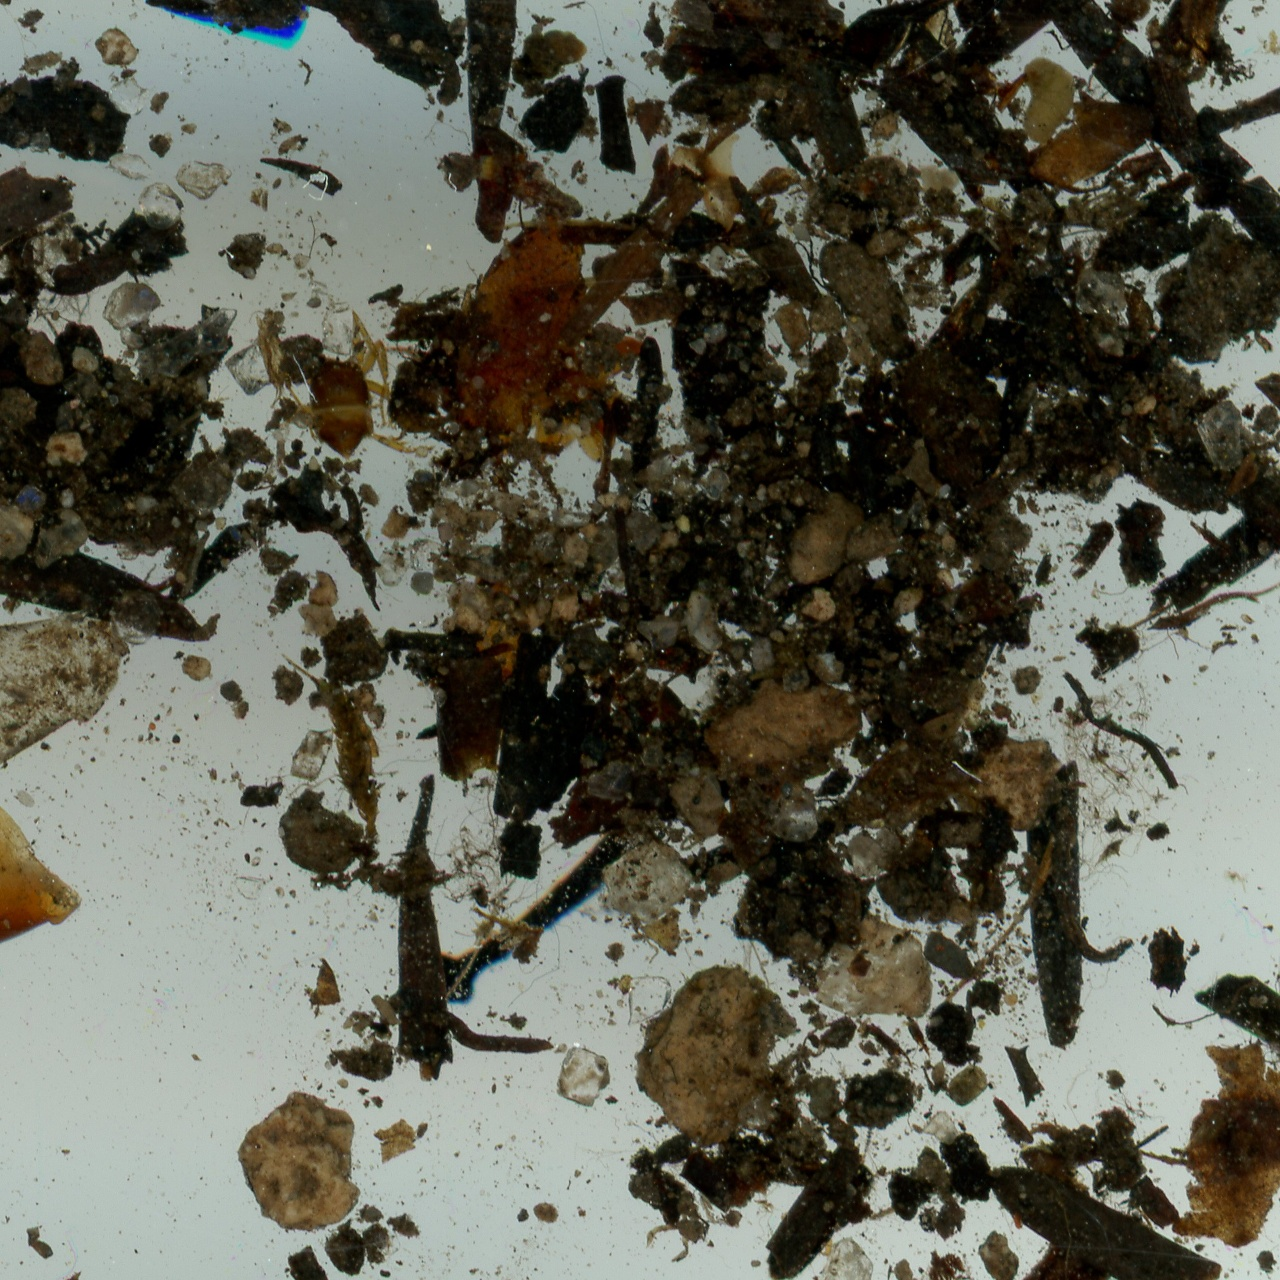arthropod: (284, 303, 417, 466), (315, 228, 339, 258), (468, 881, 490, 910)
